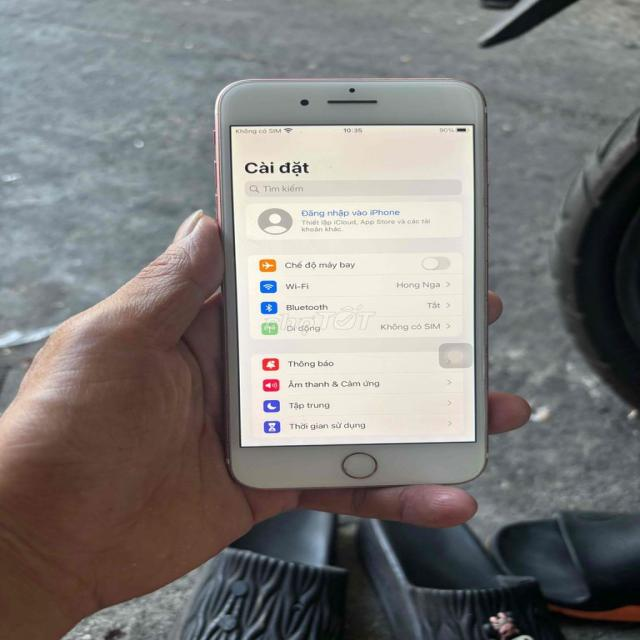gen_7_8: (202, 75, 495, 495)
scratch: (338, 457, 374, 477)
